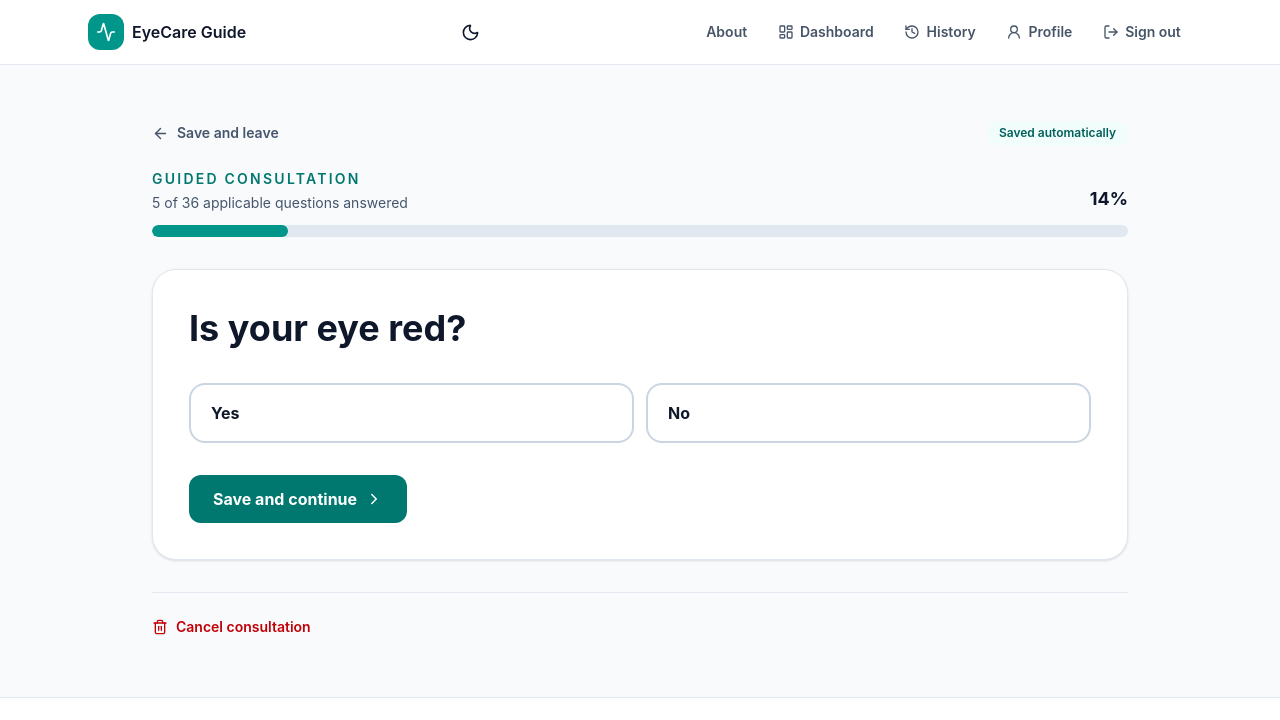
Test: App authentication experience › reloads consultation state after a stale revision conflict
The width and height of the screenshot is (1280, 720).
Click the text "Yes". click: [225, 413]
box: [211, 401, 239, 425]
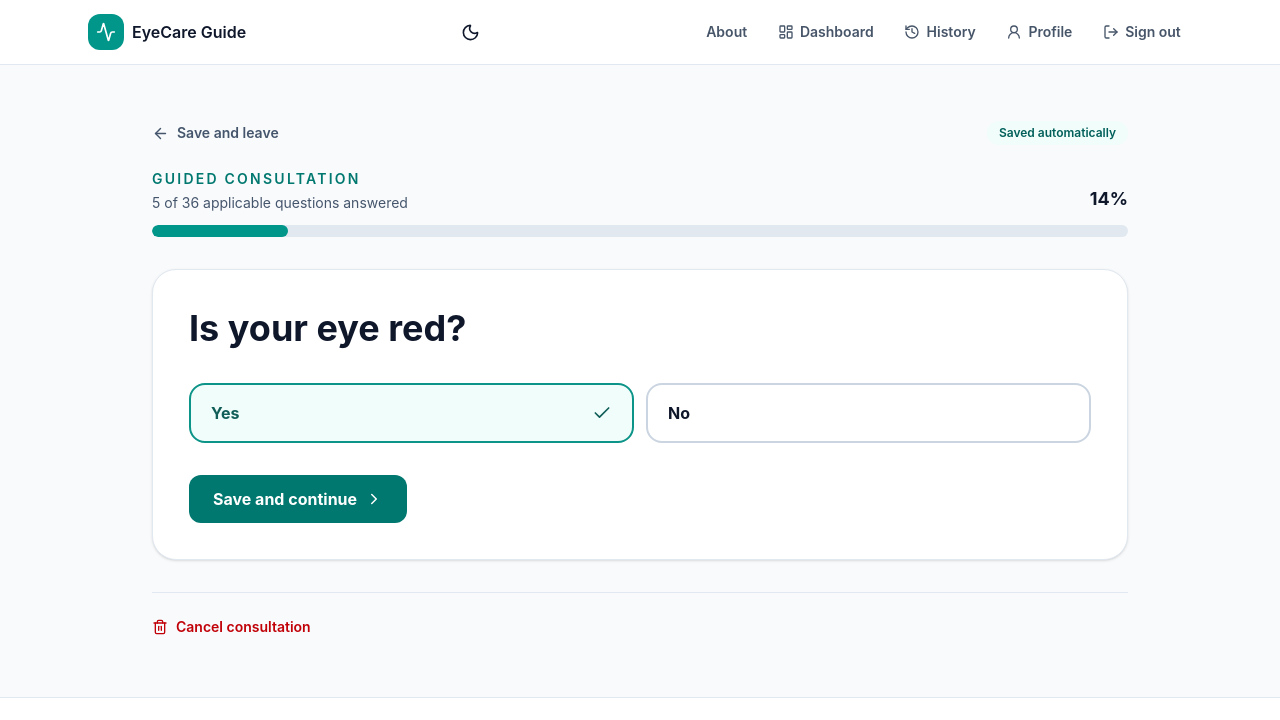
Click the button "Save and continue". click: [298, 499]
box: [189, 475, 407, 523]
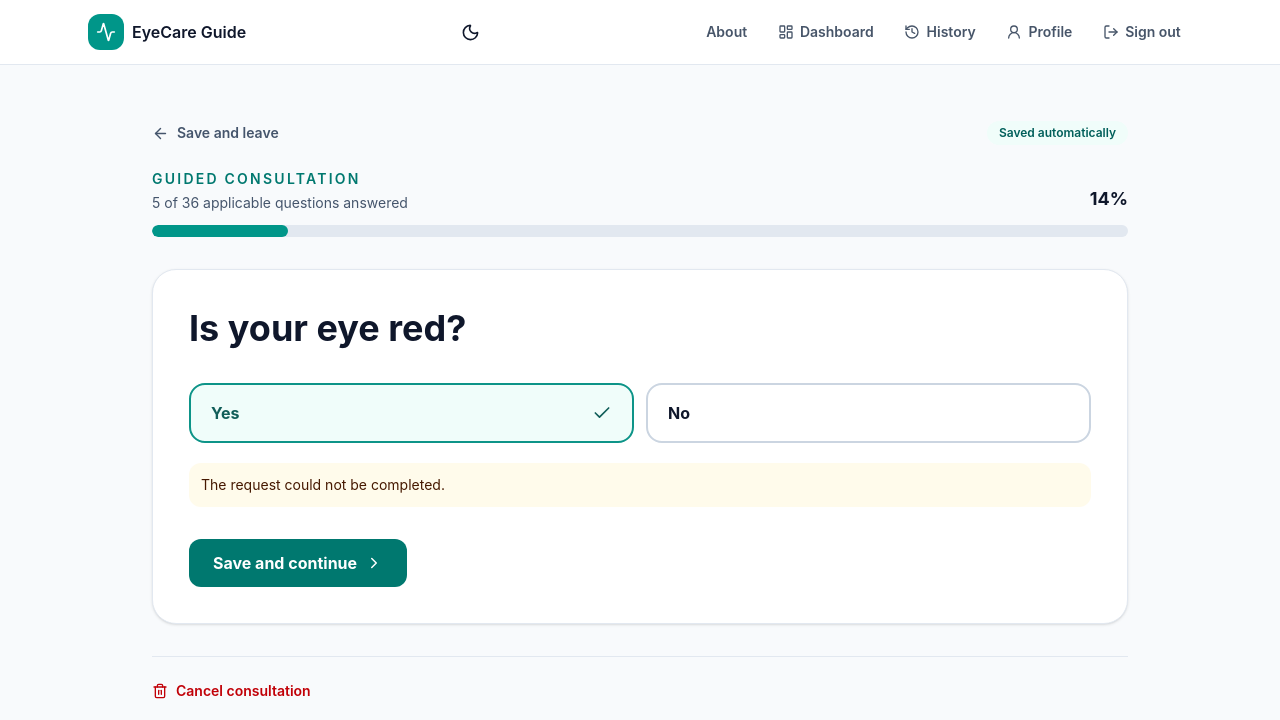
Expected: the message shows "request could not be completed", [201, 476, 445, 493]
